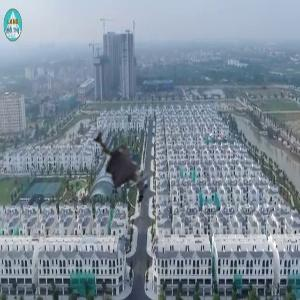drone: (66, 90, 192, 216)
